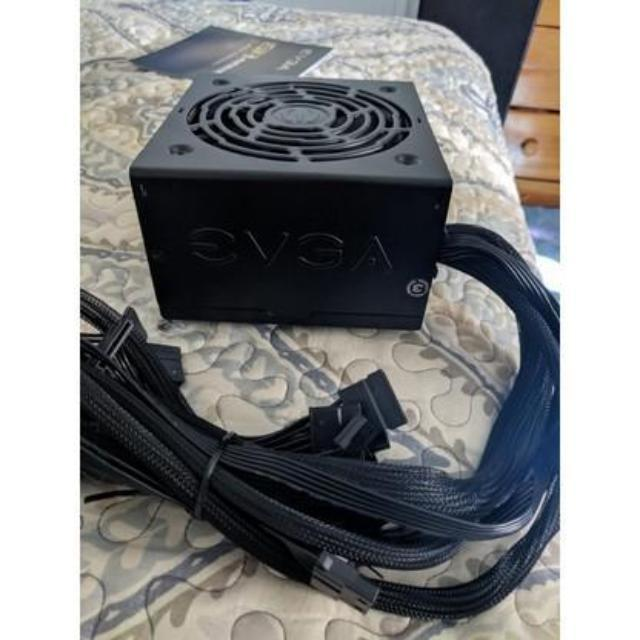PSU: (120, 67, 458, 344)
